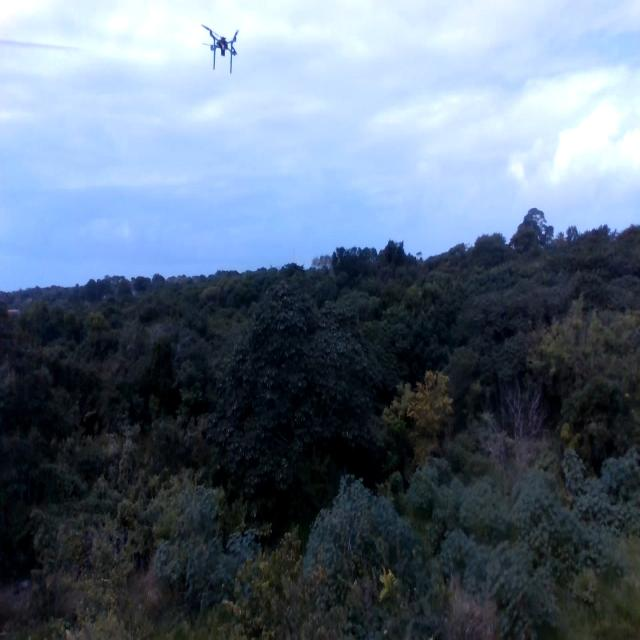-uav-: (198, 12, 248, 101)
